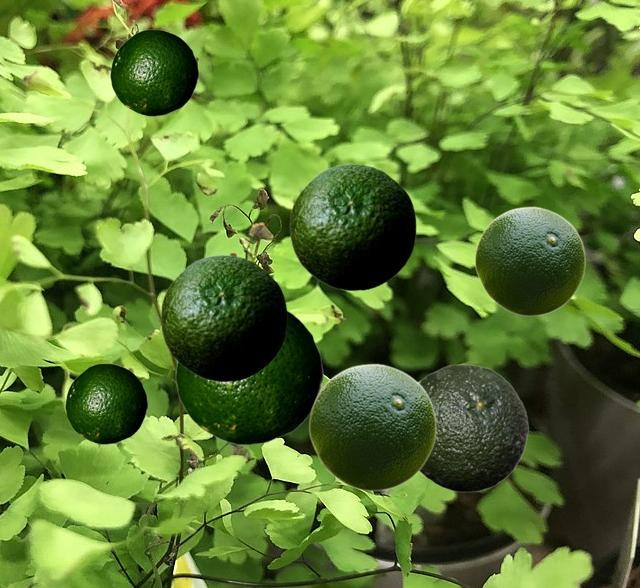calamansi: (175, 308, 323, 444), (308, 363, 436, 490), (289, 163, 415, 290), (160, 254, 286, 381), (419, 364, 528, 491), (474, 206, 585, 315), (110, 29, 198, 115), (65, 363, 147, 443)
